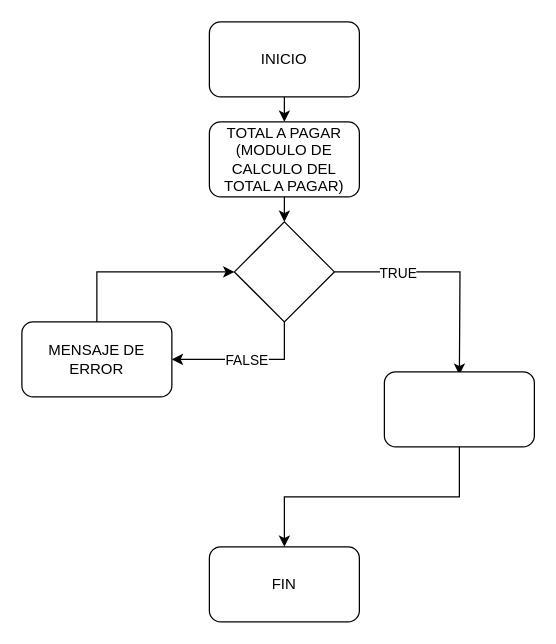
The diagram is 556 pixels wide and 644 high, and some of its shapes have lost their labels. Here are the shapes that lost their labels. From the top down, the centre of each, then its label:
(x=283, y=271): PAGO >= TOTAL
(x=458, y=409): CALCULAR Y MOSTRAR LAS VUELTAS
